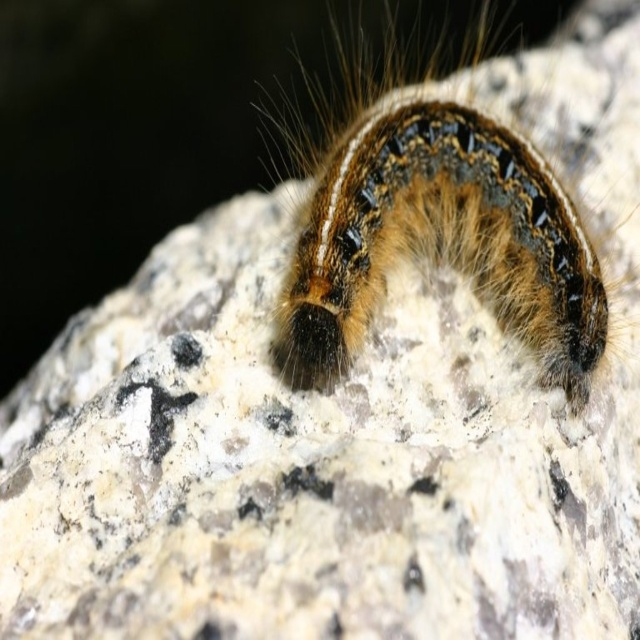Caterpillar: (264, 1, 639, 408)
